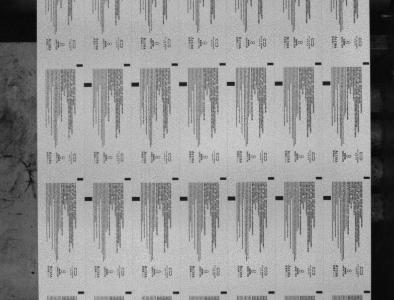qblock: (131, 82, 139, 87), (275, 81, 283, 86), (227, 81, 235, 86), (132, 196, 140, 201), (180, 196, 188, 201), (323, 196, 332, 200), (84, 83, 92, 87), (179, 82, 187, 86), (323, 81, 331, 85), (84, 197, 92, 201), (276, 196, 284, 200), (228, 196, 236, 200)
smallqblock: (220, 62, 226, 66), (124, 63, 131, 66), (171, 63, 178, 66), (267, 62, 274, 65), (315, 62, 322, 65), (77, 178, 84, 181), (124, 177, 131, 180), (363, 62, 370, 65), (220, 177, 227, 180), (172, 177, 179, 180), (268, 177, 275, 180), (316, 176, 323, 179), (364, 176, 371, 179), (221, 291, 228, 294), (125, 291, 132, 294), (173, 291, 180, 294), (78, 291, 85, 294), (269, 291, 276, 294), (316, 290, 323, 293), (364, 290, 371, 293), (77, 64, 83, 67)
